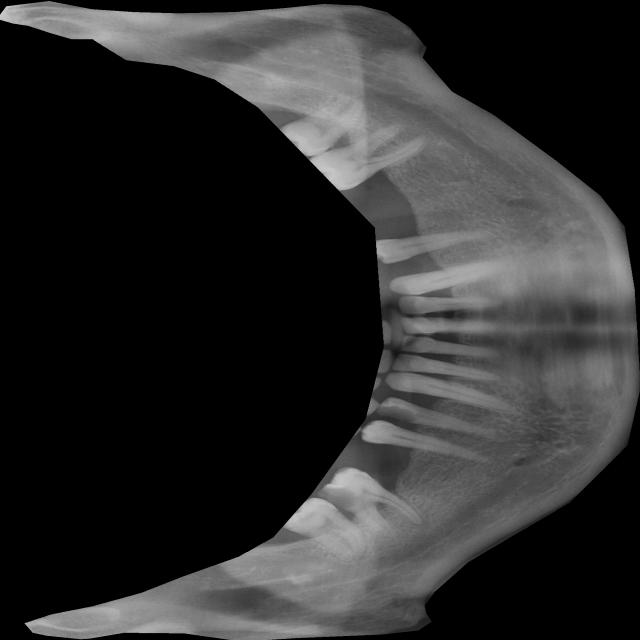mandibula: (0, 0, 640, 640)
